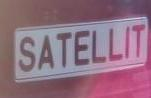1: (121, 21, 134, 61)
A: (37, 30, 56, 75)
E: (71, 27, 93, 70)
L: (90, 25, 109, 69), (107, 24, 124, 65)
S: (17, 32, 40, 78)
T: (129, 18, 151, 63), (55, 29, 73, 73)
